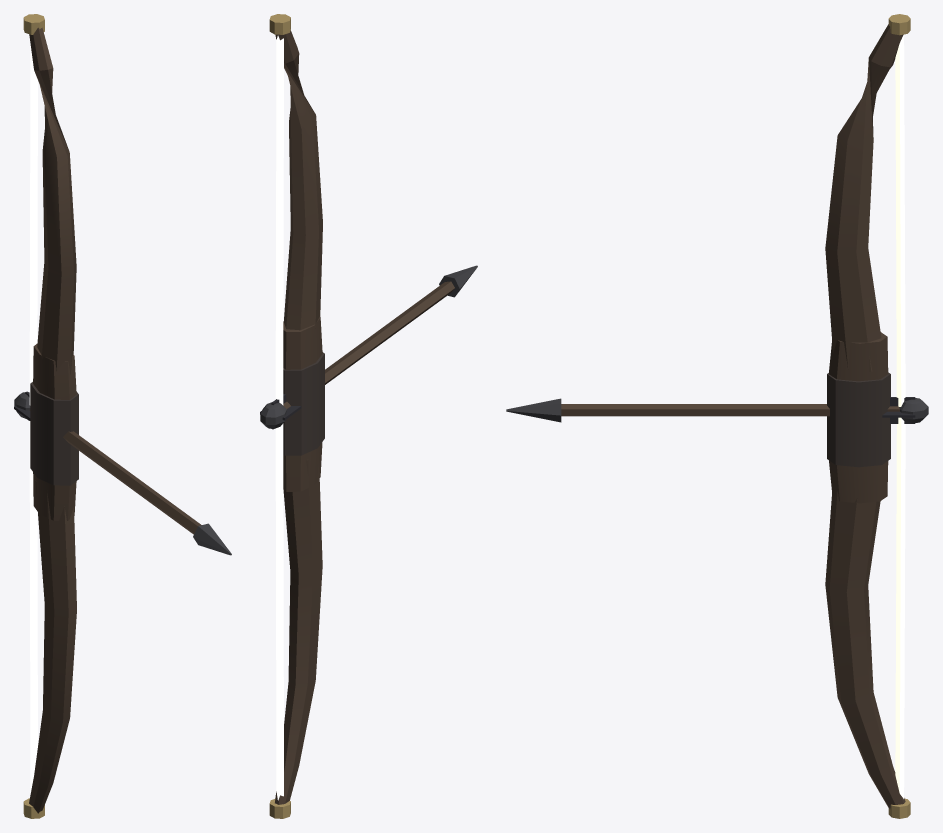
Rendered from archer_bow.glb.
3 views of the same model, side by side, from view 1: azimuth 30°, elevation 25°; view 2: azimuth 150°, elevation 25°; view 3: azimuth 270°, elevation 25° (orthographic).
Parts seen in each view (by area): view 1: ArcherBow, ArrowShaft; view 2: ArcherBow, ArrowShaft; view 3: ArcherBow, ArrowShaft.
Boxes of the visible parts, x1,y1,x2,y2 form: ArcherBow: (23,14,78,818); ArrowShaft: (14,391,231,555); ArcherBow: (269,14,324,818); ArrowShaft: (260,265,477,429); ArcherBow: (825,14,910,818); ArrowShaft: (506,397,928,423).
Bounding box in the file's own units: 0.072 × 1.59 × 0.7665.
